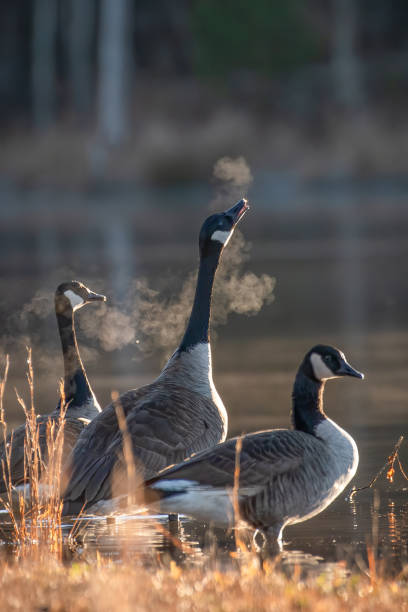goose: (58, 193, 254, 519), (144, 343, 367, 563), (1, 278, 109, 496)
